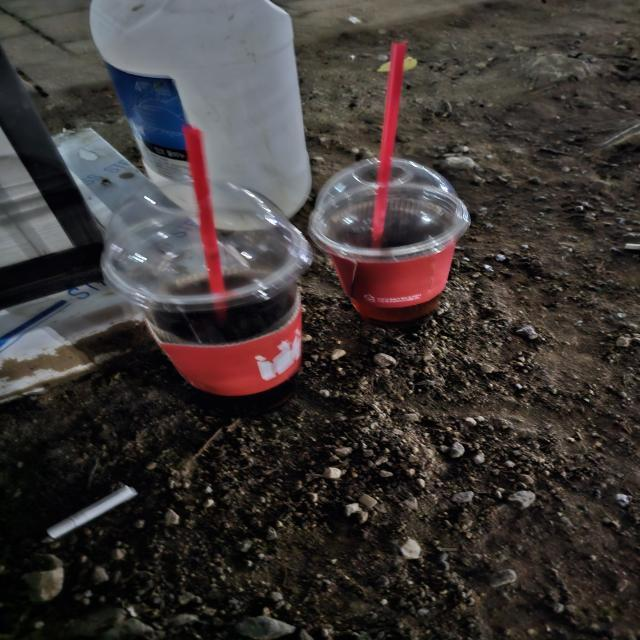cup: (94, 172, 318, 424), (309, 150, 472, 326)
